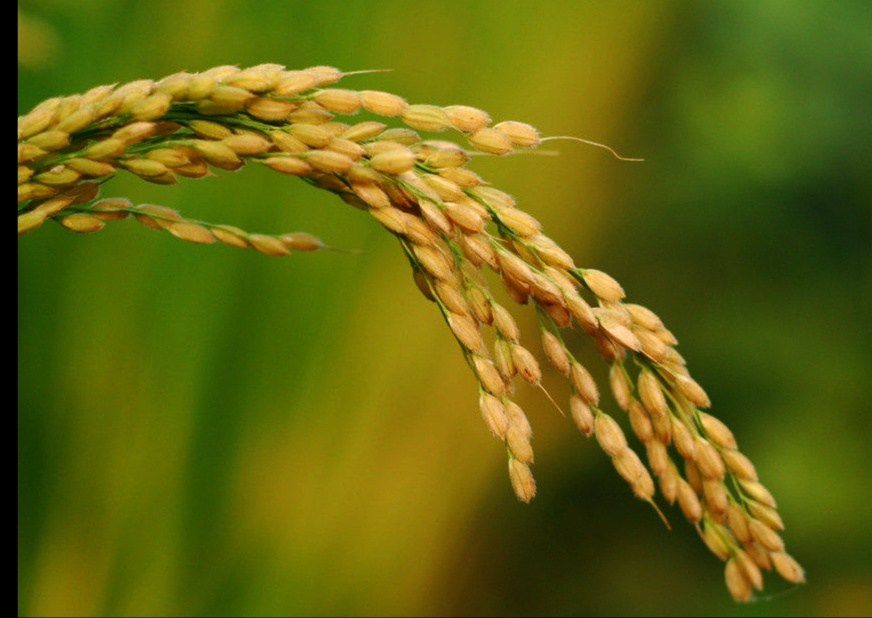rice: (18, 28, 821, 601)
